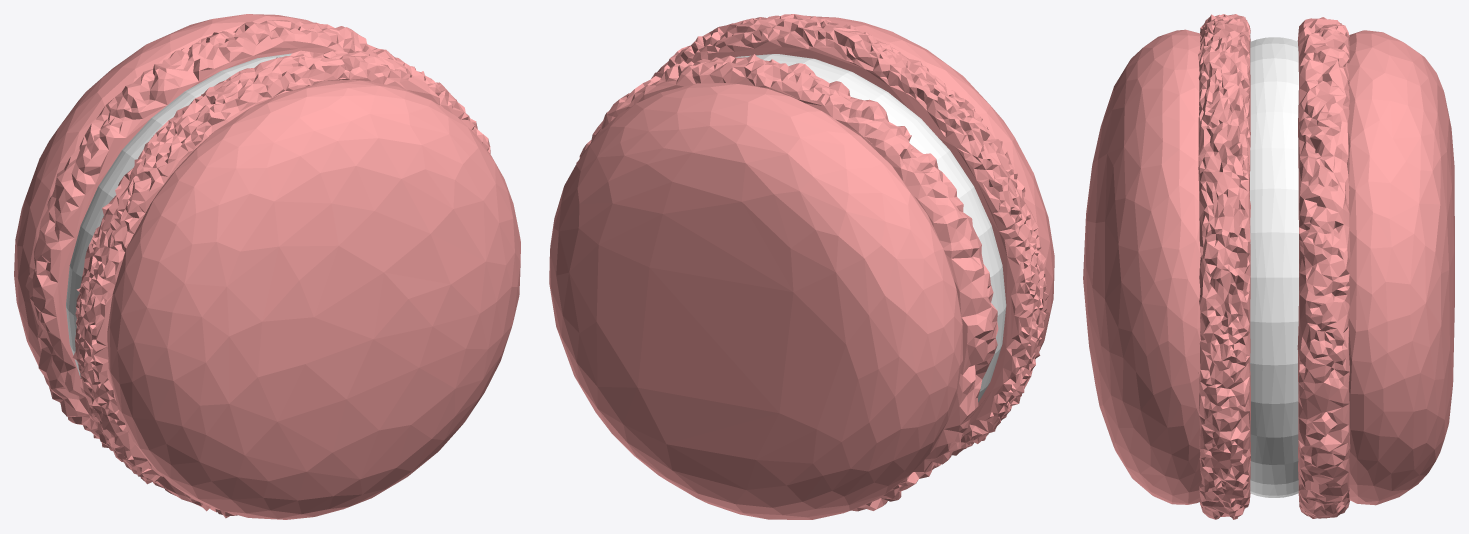
The model's file is macaroon_P.glb.
3 renders of one model, left to right at view 1: azimuth 30°, elevation 25°; view 2: azimuth 150°, elevation 25°; view 3: azimuth 270°, elevation 25°, orthographic. The views are drawn at different scales.
Parts seen in each view (by area): view 1: Cube.001, Cube.002, Cube.652; view 2: Cube.001, Cube.002, Cube.652; view 3: Cube.001, Cube.002, Cube.652.
Part boxes in pixels (x1,y1,x2,y2): Cube.001: [14, 14, 520, 519]; Cube.002: [25, 20, 490, 518]; Cube.652: [66, 53, 291, 377]; Cube.001: [549, 16, 1054, 519]; Cube.002: [576, 14, 1048, 511]; Cube.652: [735, 54, 1006, 402]; Cube.001: [1083, 29, 1454, 505]; Cube.002: [1198, 14, 1350, 519]; Cube.652: [1250, 37, 1298, 497].
Bounding box in the file's own units: 15.71 × 15.86 × 11.55.
